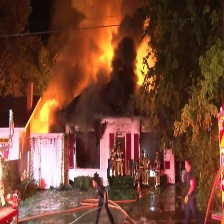fire: (26, 93, 65, 138), (96, 38, 119, 67)
smoke: (34, 2, 167, 103)
